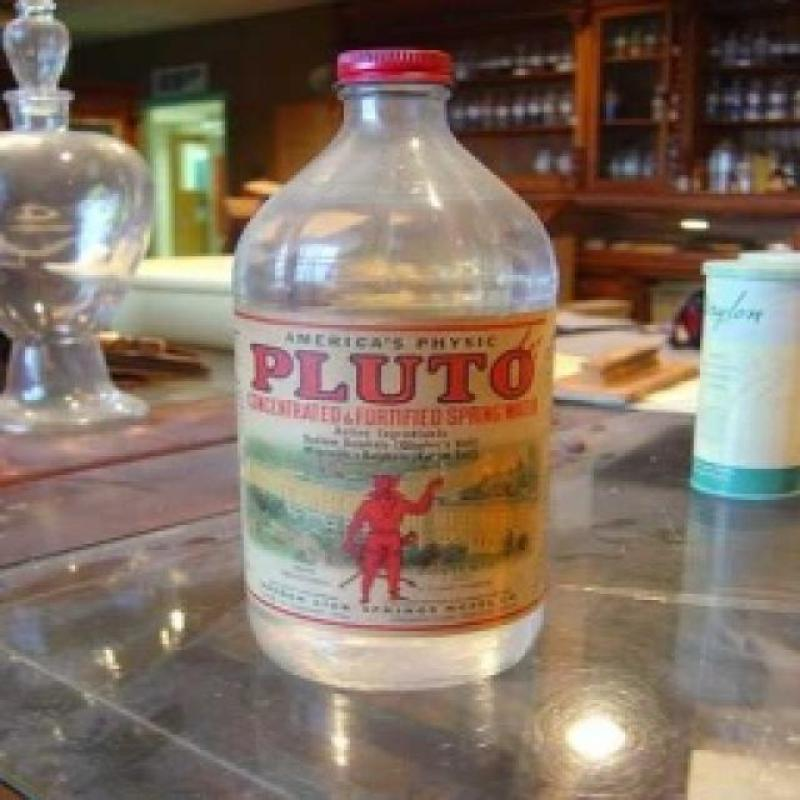botella: (230, 50, 558, 690)
